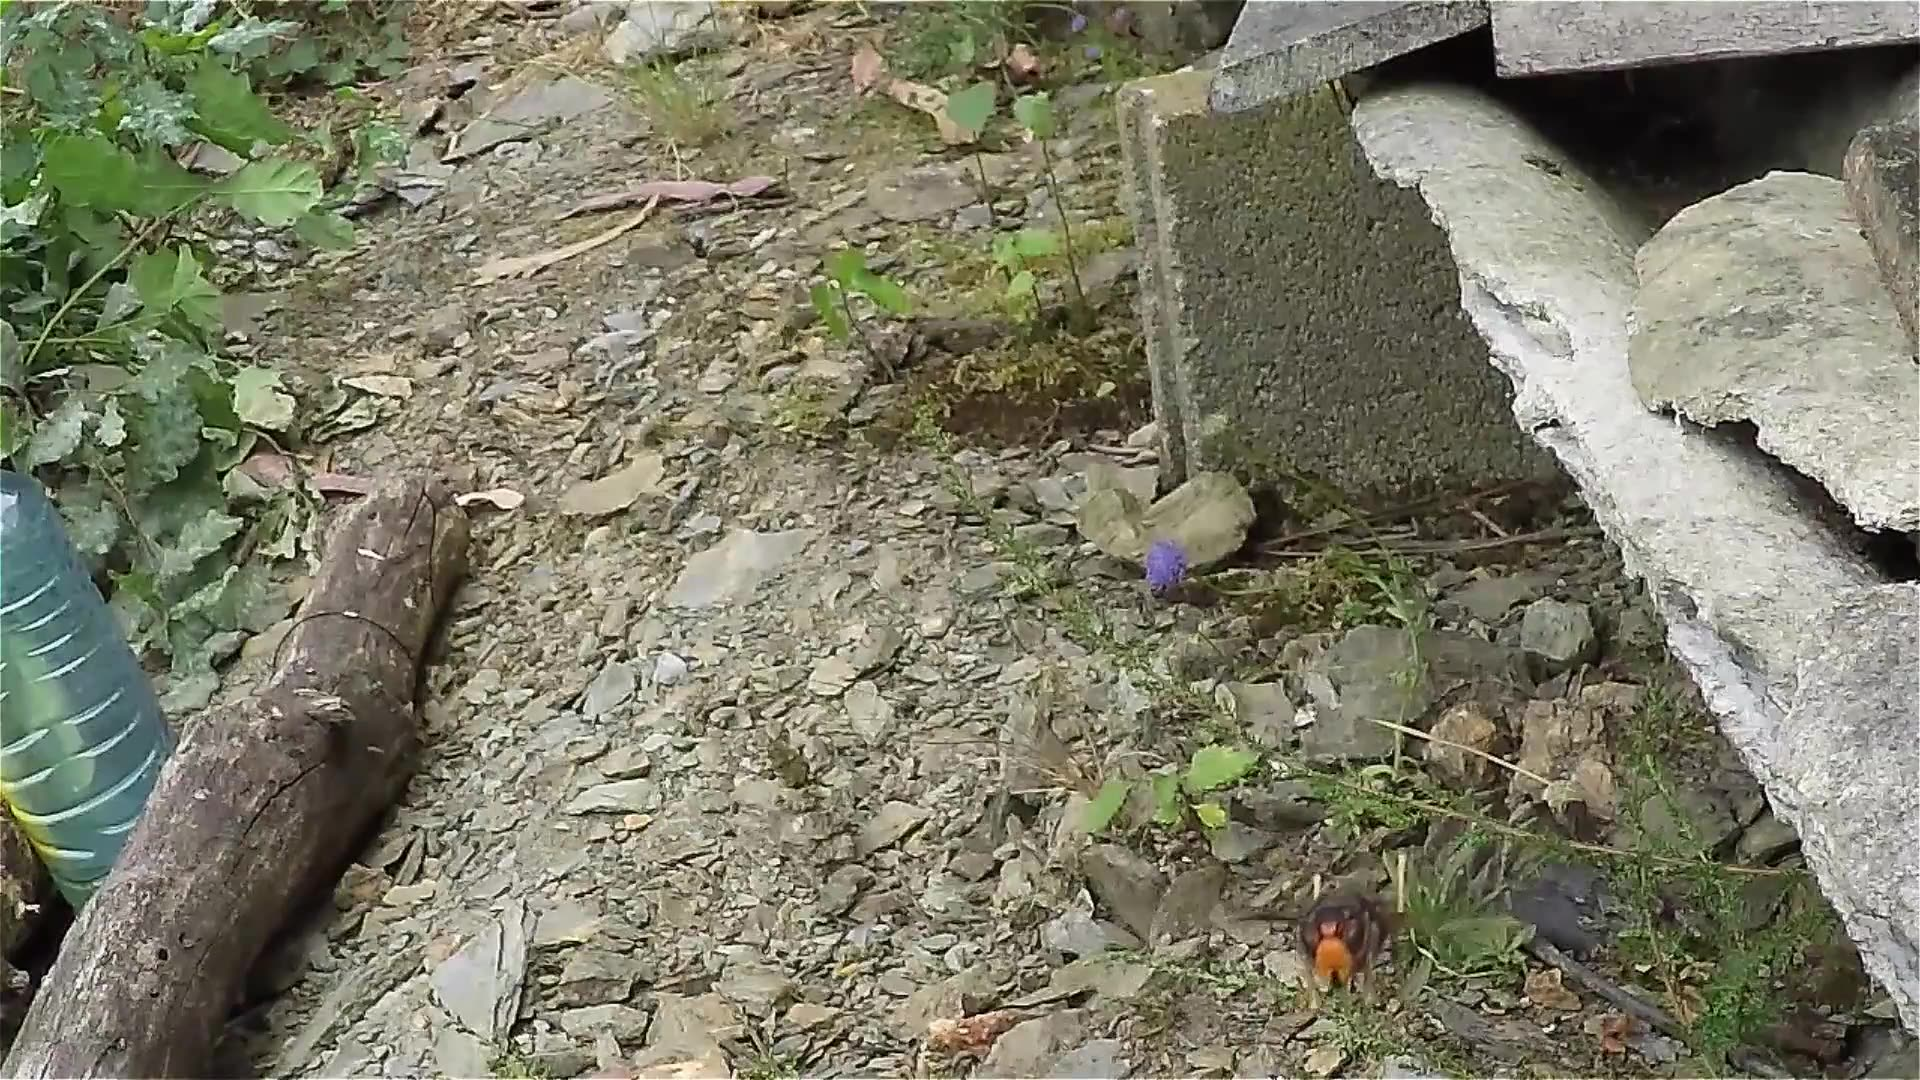hornet: (1284, 878, 1404, 1006)
